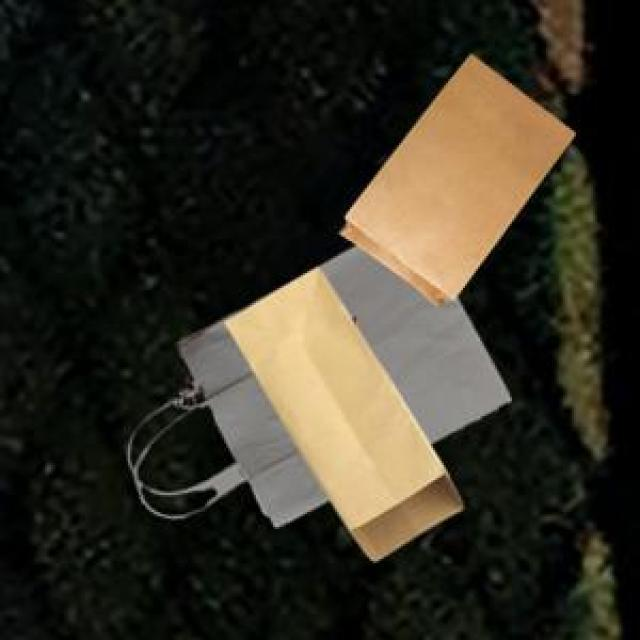paper: (128, 241, 508, 523), (222, 265, 459, 557), (337, 51, 572, 303)
